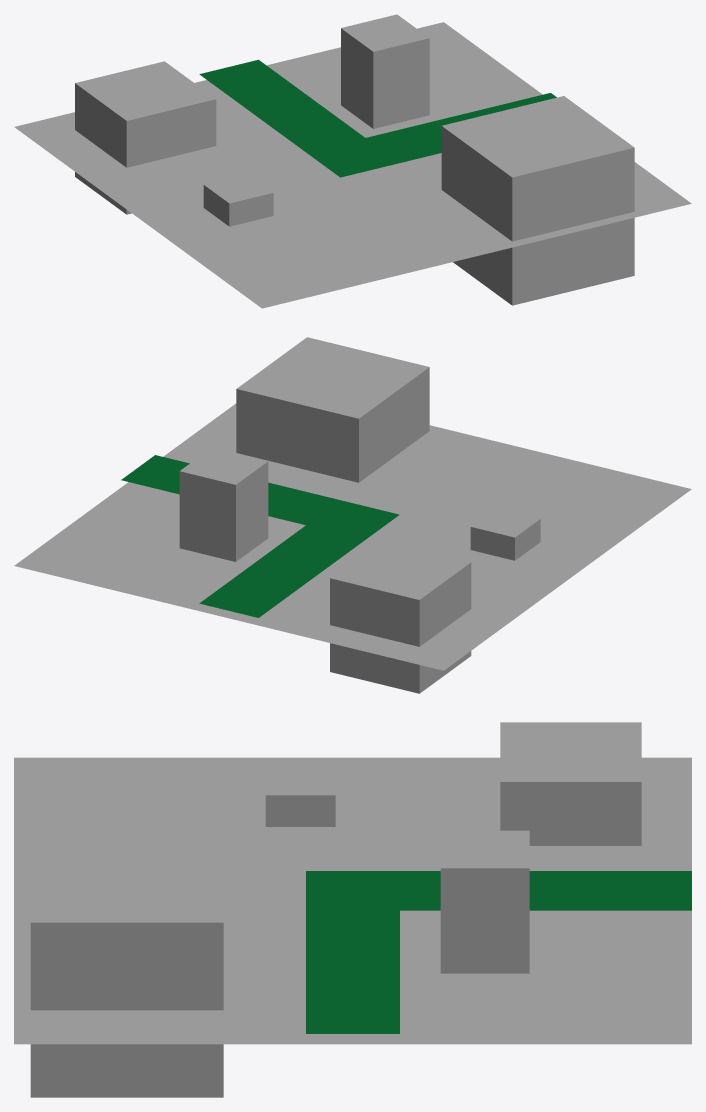
Rendered from street_corner_003.fbx.
3 renders of one model, top to bottom at view 1: azimuth 30°, elevation 25°; view 2: azimuth 150°, elevation 25°; view 3: azimuth 270°, elevation 25°, orthographic. The views are drawn at different scales.
Parts seen in each view (by area): view 1: street_corner_003; view 2: street_corner_003; view 3: street_corner_003.
Boxes of the visible parts, bbox=[...] form: street_corner_003: bbox=[14, 14, 691, 308]; street_corner_003: bbox=[14, 337, 691, 693]; street_corner_003: bbox=[14, 722, 691, 1097].
Size of the model in its own units: 1 by 0.314 by 1.
